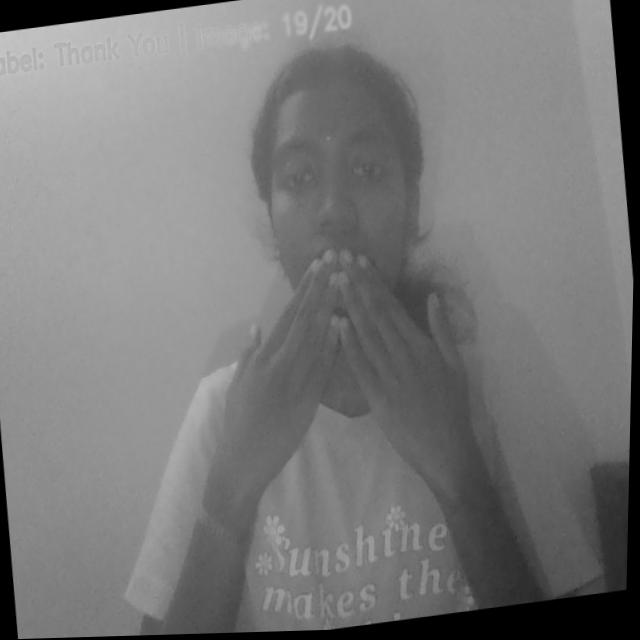Thank You: (177, 222, 511, 541)
